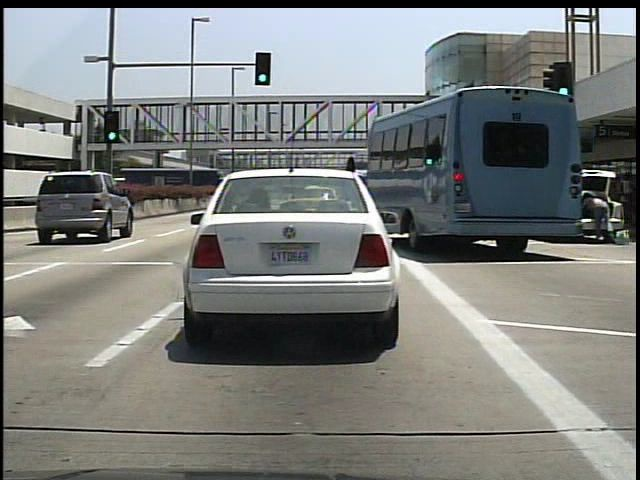person: (587, 186, 616, 248)
